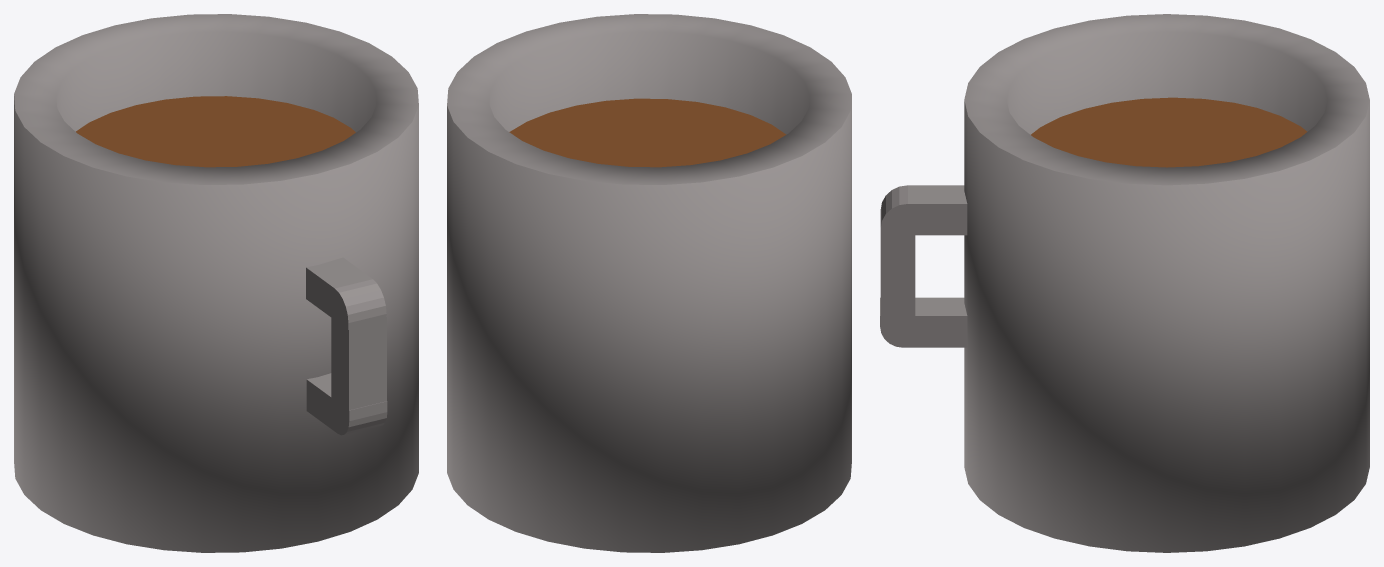
File: CoffeeCupWCoffee.fbx
The picture shows the model from 3 angles, left to right: view 1: azimuth 30°, elevation 25°; view 2: azimuth 150°, elevation 25°; view 3: azimuth 270°, elevation 25°; orthographic projection.
Parts seen in each view (by area): view 1: Cup, Coffee; view 2: Cup, Coffee; view 3: Cup, Coffee.
Boxes of the visible parts, x1,y1,x2,y2 form: Cup: (14, 14, 418, 552); Coffee: (76, 96, 355, 167); Cup: (447, 14, 851, 552); Coffee: (509, 98, 786, 167); Cup: (880, 14, 1369, 552); Coffee: (1031, 97, 1307, 167).
Size of the model in its own units: 200 by 200 by 242.
